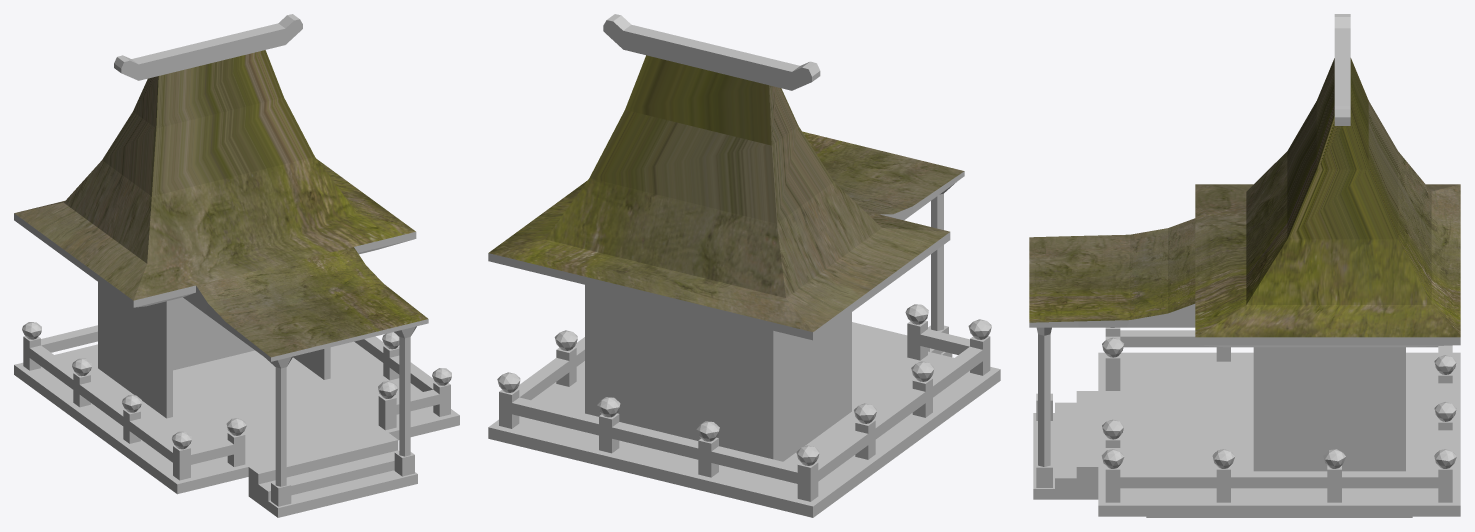
Rendered from kodamaShrine.fbx.
3 renders of one model, left to right at view 1: azimuth 30°, elevation 25°; view 2: azimuth 150°, elevation 25°; view 3: azimuth 270°, elevation 25°, orthographic. The views are drawn at different scales.
Parts seen in each view (by area): view 1: Base; view 2: Base; view 3: Base.
Part boxes in pixels (box(x1,y1,x2,y2)): Base: box(14, 14, 459, 517); Base: box(488, 14, 1000, 517); Base: box(1029, 14, 1460, 517).
Bounding box in the file's own units: 500 × 610 × 595.
